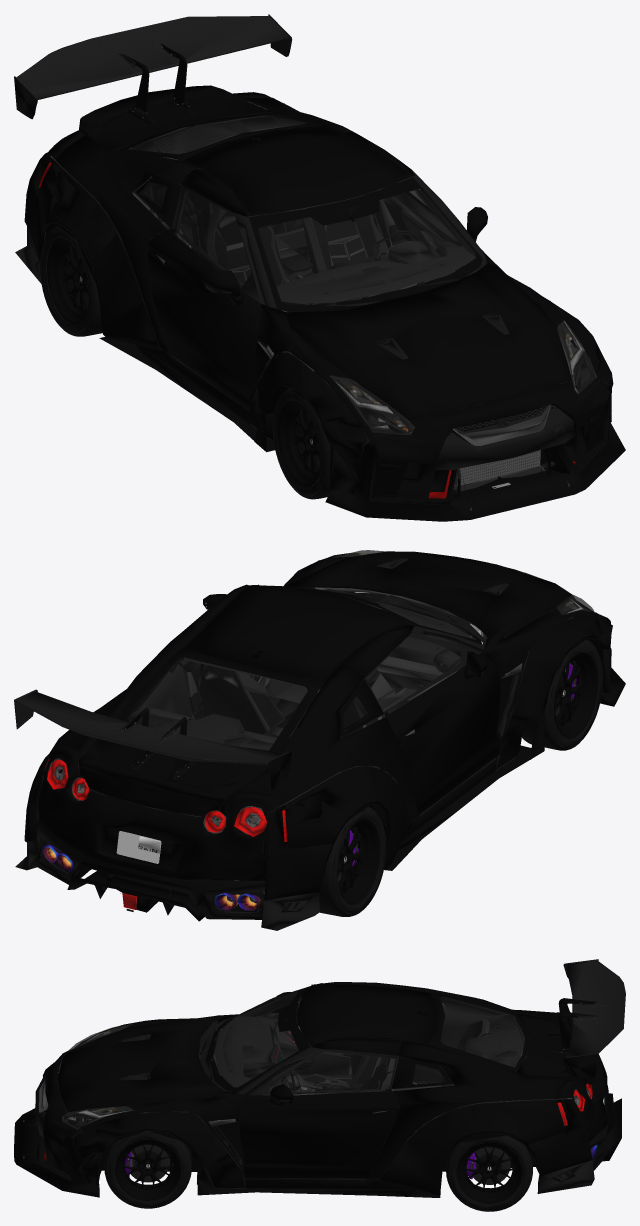
File: nissan_gtr_r35_opt.glb
3 views of the same model, one above another, from view 1: azimuth 30°, elevation 25°; view 2: azimuth 150°, elevation 25°; view 3: azimuth 270°, elevation 25° (orthographic). The views are drawn at different scales.
Parts seen in each view (by area): view 1: n:Kit4_Paint_Geo_lodA_Kit4_Paint_Geo_lodA_Nissan_GTRTNR4_201, n:Kit4_Window_Geo_lodA_Kit4_Window_Geo_lodA_Nissan_GTRTNR4_2 (×2), n:Hood4a_Paint_Geo_lodA_Hood4a_Paint_Geo_lodA_Nissan_GTRTNR4, n:Wing4b_Paint_Geo_lodA_Wing4b_Paint_Geo_lodA_Nissan_GTRTNR4, n:Kit4_Coloured_Geo_lodA_Kit4_Coloured_Geo_lodA_Nissan_GTRTN, n:Interior_Geo_lodA_Interior_Geo_lodA_Nissan_GTRTNR4_2017Int, n:Wing4b_Carbon1_Geo_lodA_Wing4b_Carbon1_Geo_lodA_Nissan_GTR, n:Kit4_Light_Geo_lodA_Kit4_Light_Geo_lodA_Nissan_GTRTNR4_201, n:Kit4_Base_Geo_lodA_Kit4_Base_Geo_lodA_Nissan_GTRTNR4_2017B, Mesh_rim_0_284_424, Mesh2_rim_0_518_772, n:Wing4b_Coloured_Geo_lodA_Wing4b_Coloured_Geo_lodA_Nissan_G (+4 smaller); view 2: n:Wing4b_Paint_Geo_lodA_Wing4b_Paint_Geo_lodA_Nissan_GTRTNR4, n:Kit4_Paint_Geo_lodA_Kit4_Paint_Geo_lodA_Nissan_GTRTNR4_201, n:Kit4_Window_Geo_lodA_Kit4_Window_Geo_lodA_Nissan_GTRTNR4_2 (×3), n:Kit4_Coloured_Geo_lodA_Kit4_Coloured_Geo_lodA_Nissan_GTRTN, n:Interior_Geo_lodA_Interior_Geo_lodA_Nissan_GTRTNR4_2017Int, n:Hood4a_Paint_Geo_lodA_Hood4a_Paint_Geo_lodA_Nissan_GTRTNR4, n:Wing4b_Carbon1_Geo_lodA_Wing4b_Carbon1_Geo_lodA_Nissan_GTR, Mesh_rim_0_284_424, Mesh2_rim_0_518_772, n:Kit4_Base_Geo_lodA_Kit4_Base_Geo_lodA_Nissan_GTRTNR4_2017B, polySurface433_N:Nissan_GTRNismoNRewardRecycled_2017_Wheel1A, n:Wing4b_Coloured_Geo_lodA_Wing4b_Coloured_Geo_lodA_Nissan_G (+6 smaller); view 3: n:Kit4_Paint_Geo_lodA_Kit4_Paint_Geo_lodA_Nissan_GTRTNR4_201, n:Wing4b_Paint_Geo_lodA_Wing4b_Paint_Geo_lodA_Nissan_GTRTNR4, n:Kit4_Window_Geo_lodA_Kit4_Window_Geo_lodA_Nissan_GTRTNR4_2 (×2), n:Interior_Geo_lodA_Interior_Geo_lodA_Nissan_GTRTNR4_2017Int, n:Kit4_Coloured_Geo_lodA_Kit4_Coloured_Geo_lodA_Nissan_GTRTN, n:Hood4a_Paint_Geo_lodA_Hood4a_Paint_Geo_lodA_Nissan_GTRTNR4, n:Wing4b_Carbon1_Geo_lodA_Wing4b_Carbon1_Geo_lodA_Nissan_GTR, aimgain_G2M:Mesh_rim_0_171_256, Mesh1_rim_0_401_598, n:Kit4_Base_Geo_lodA_Kit4_Base_Geo_lodA_Nissan_GTRTNR4_2017B, polySurface140_N:Nissan_GTRNismoNRewardRecycled_2017_Wheel1A, polySurface312_N:Nissan_GTRNismoNRewardRecycled_2017_Wheel1A (+7 smaller).
Boxes of the visible parts, x1,y1,x2,y2 form: n:Kit4_Paint_Geo_lodA_Kit4_Paint_Geo_lodA_Nissan_GTRTNR4_201: (79, 105, 613, 501); n:Kit4_Window_Geo_lodA_Kit4_Window_Geo_lodA_Nissan_GTRTNR4_2 (×2): (117, 113, 602, 434); n:Hood4a_Paint_Geo_lodA_Hood4a_Paint_Geo_lodA_Nissan_GTRTNR4: (287, 263, 572, 420); n:Wing4b_Paint_Geo_lodA_Wing4b_Paint_Geo_lodA_Nissan_GTRTNR4: (14, 35, 354, 352); n:Kit4_Coloured_Geo_lodA_Kit4_Coloured_Geo_lodA_Nissan_GTRTN: (15, 132, 625, 521); n:Interior_Geo_lodA_Interior_Geo_lodA_Nissan_GTRTNR4_2017Int: (94, 115, 475, 371); n:Wing4b_Carbon1_Geo_lodA_Wing4b_Carbon1_Geo_lodA_Nissan_GTR: (14, 14, 291, 119); n:Kit4_Light_Geo_lodA_Kit4_Light_Geo_lodA_Nissan_GTRTNR4_201: (51, 102, 599, 469); n:Kit4_Base_Geo_lodA_Kit4_Base_Geo_lodA_Nissan_GTRTNR4_2017B: (46, 115, 600, 504); Mesh_rim_0_284_424: (277, 401, 326, 487); Mesh2_rim_0_518_772: (47, 239, 93, 324); n:Wing4b_Coloured_Geo_lodA_Wing4b_Coloured_Geo_lodA_Nissan_G: (16, 45, 284, 339); n:Wing4b_Paint_Geo_lodA_Wing4b_Paint_Geo_lodA_Nissan_GTRTNR4: (24, 627, 418, 900); n:Kit4_Paint_Geo_lodA_Kit4_Paint_Geo_lodA_Nissan_GTRTNR4_201: (78, 553, 612, 841); n:Kit4_Window_Geo_lodA_Kit4_Window_Geo_lodA_Nissan_GTRTNR4_2 (×3): (45, 550, 594, 909); n:Kit4_Coloured_Geo_lodA_Kit4_Coloured_Geo_lodA_Nissan_GTRTN: (15, 560, 625, 930); n:Interior_Geo_lodA_Interior_Geo_lodA_Nissan_GTRTNR4_2017Int: (78, 600, 474, 859); n:Hood4a_Paint_Geo_lodA_Hood4a_Paint_Geo_lodA_Nissan_GTRTNR4: (287, 551, 571, 637); n:Wing4b_Carbon1_Geo_lodA_Wing4b_Carbon1_Geo_lodA_Nissan_GTR: (14, 689, 289, 790); Mesh_rim_0_284_424: (549, 652, 598, 738); Mesh2_rim_0_518_772: (333, 819, 379, 904); n:Kit4_Base_Geo_lodA_Kit4_Base_Geo_lodA_Nissan_GTRTNR4_2017B: (39, 571, 600, 912); polySurface433_N:Nissan_GTRNismoNRewardRecycled_2017_Wheel1A: (333, 809, 386, 914); n:Wing4b_Coloured_Geo_lodA_Wing4b_Coloured_Geo_lodA_Nissan_G: (37, 707, 409, 857); n:Kit4_Paint_Geo_lodA_Kit4_Paint_Geo_lodA_Nissan_GTRTNR4_201: (43, 982, 597, 1189); n:Wing4b_Paint_Geo_lodA_Wing4b_Paint_Geo_lodA_Nissan_GTRTNR4: (367, 963, 610, 1195); n:Kit4_Window_Geo_lodA_Kit4_Window_Geo_lodA_Nissan_GTRTNR4_2 (×2): (61, 986, 589, 1152); n:Interior_Geo_lodA_Interior_Geo_lodA_Nissan_GTRTNR4_2017Int: (208, 991, 567, 1163); n:Kit4_Coloured_Geo_lodA_Kit4_Coloured_Geo_lodA_Nissan_GTRTN: (14, 983, 621, 1197); n:Hood4a_Paint_Geo_lodA_Hood4a_Paint_Geo_lodA_Nissan_GTRTNR4: (58, 1016, 224, 1112); n:Wing4b_Carbon1_Geo_lodA_Wing4b_Carbon1_Geo_lodA_Nissan_GTR: (563, 959, 625, 1068); aimgain_G2M:Mesh_rim_0_171_256: (115, 1133, 181, 1200); Mesh1_rim_0_401_598: (456, 1137, 522, 1203); n:Kit4_Base_Geo_lodA_Kit4_Base_Geo_lodA_Nissan_GTRTNR4_2017B: (58, 991, 539, 1189); polySurface140_N:Nissan_GTRNismoNRewardRecycled_2017_Wheel1A: (107, 1133, 188, 1207); polySurface312_N:Nissan_GTRNismoNRewardRecycled_2017_Wheel1A: (449, 1137, 529, 1210).
Size of the model in its own units: 0.0213 by 0.0139 by 0.0497.
Materials: 28 (19 with a texture image).
